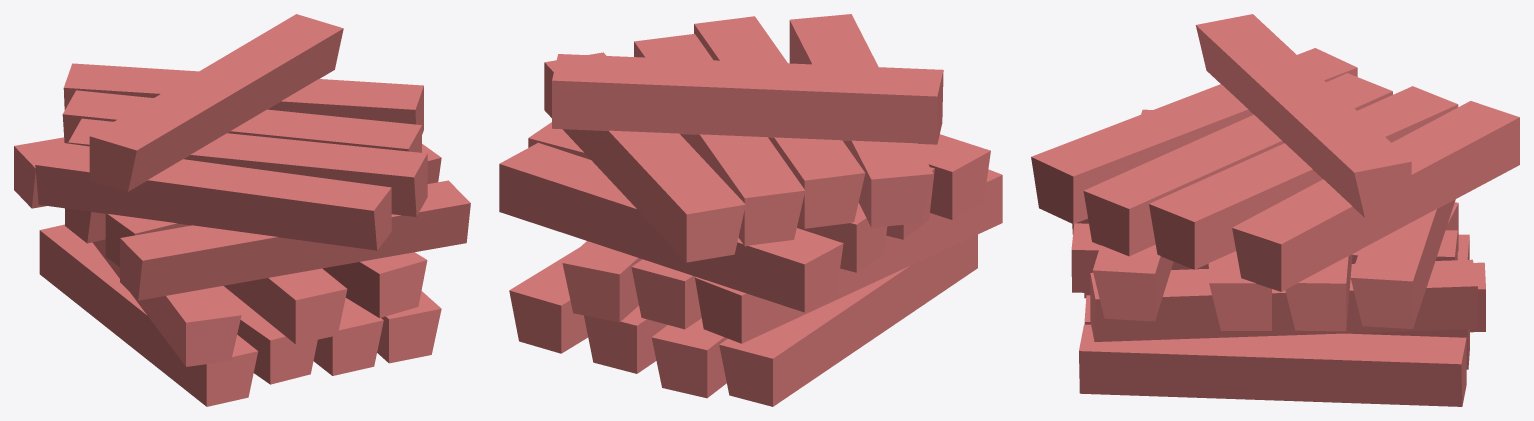
File: small_wood_stack_01.fbx
3 renders of one model, left to right at view 1: azimuth 30°, elevation 25°; view 2: azimuth 150°, elevation 25°; view 3: azimuth 270°, elevation 25°, orthographic. The views are drawn at different scales.
Visible parts, largest first — view 1: small_plank_stack_01; view 2: small_plank_stack_01; view 3: small_plank_stack_01.
Boxes of the visible parts, <box> form: small_plank_stack_01: <box>14,14,470,406</box>; small_plank_stack_01: <box>499,14,1002,406</box>; small_plank_stack_01: <box>1031,14,1519,406</box>.
Bounding box in the file's own units: 144 × 82.82 × 152.
